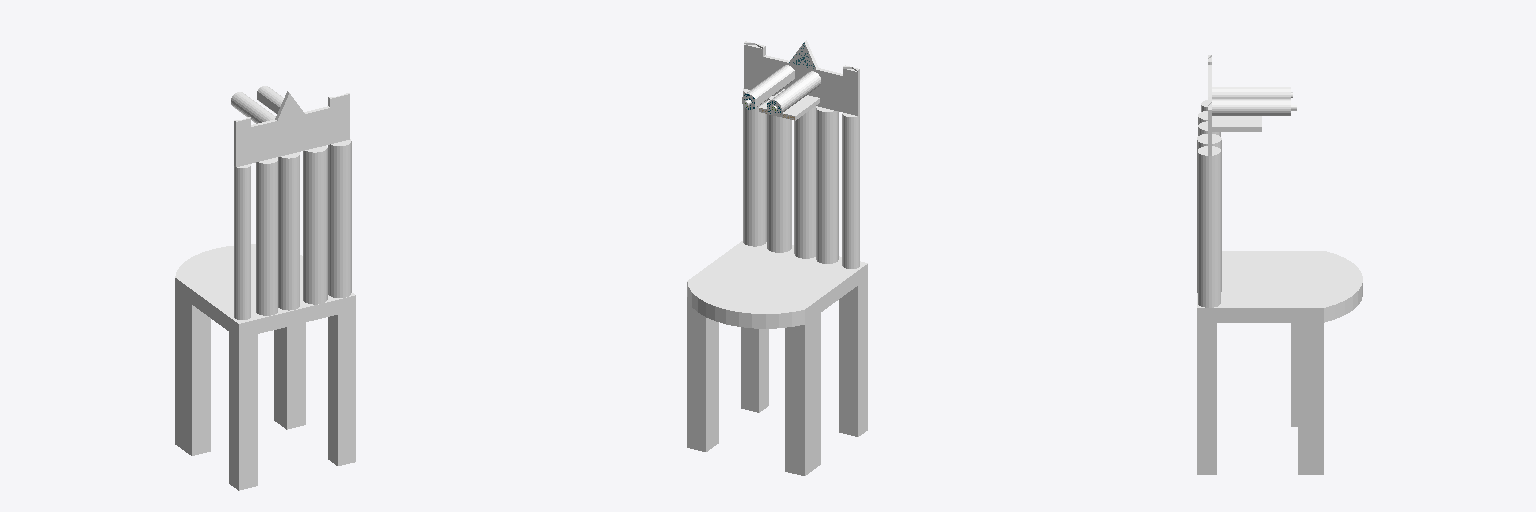
3 views of the same model, side by side, from view 1: azimuth 30°, elevation 25°; view 2: azimuth 150°, elevation 25°; view 3: azimuth 270°, elevation 25° (orthographic).
Parts seen in each view (by area): view 1: mesh6_mesh6-geometry, mesh1_mesh1-geometry, mesh3_mesh3-geometry, mesh2_mesh2-geometry, mesh5_mesh5-geometry, mesh4_mesh4-geometry; view 2: mesh6_mesh6-geometry, mesh1_mesh1-geometry, mesh3_mesh3-geometry, mesh4_mesh4-geometry, mesh2_mesh2-geometry, mesh5_mesh5-geometry; view 3: mesh1_mesh1-geometry, mesh6_mesh6-geometry, mesh4_mesh4-geometry, mesh5_mesh5-geometry, mesh3_mesh3-geometry.
Boxes of the visible parts, <box> form: mesh6_mesh6-geometry: <box>231,86,351,319</box>; mesh1_mesh1-geometry: <box>175,244,355,338</box>; mesh3_mesh3-geometry: <box>175,292,210,455</box>; mesh2_mesh2-geometry: <box>229,332,257,490</box>; mesh5_mesh5-geometry: <box>328,310,355,465</box>; mesh4_mesh4-geometry: <box>274,322,305,429</box>; mesh6_mesh6-geometry: <box>742,40,859,268</box>; mesh1_mesh1-geometry: <box>687,241,867,328</box>; mesh3_mesh3-geometry: <box>785,313,820,475</box>; mesh4_mesh4-geometry: <box>687,297,718,451</box>; mesh2_mesh2-geometry: <box>839,279,867,436</box>; mesh5_mesh5-geometry: <box>741,327,768,412</box>; mesh1_mesh1-geometry: <box>1197,251,1362,322</box>; mesh6_mesh6-geometry: <box>1197,55,1296,307</box>; mesh4_mesh4-geometry: <box>1298,323,1323,474</box>; mesh5_mesh5-geometry: <box>1197,323,1216,474</box>; mesh3_mesh3-geometry: <box>1291,323,1297,426</box>.
Bounding box in the file's own units: 0.288 × 0.8902 × 0.353.
Materials: 5 (4 with a texture image).